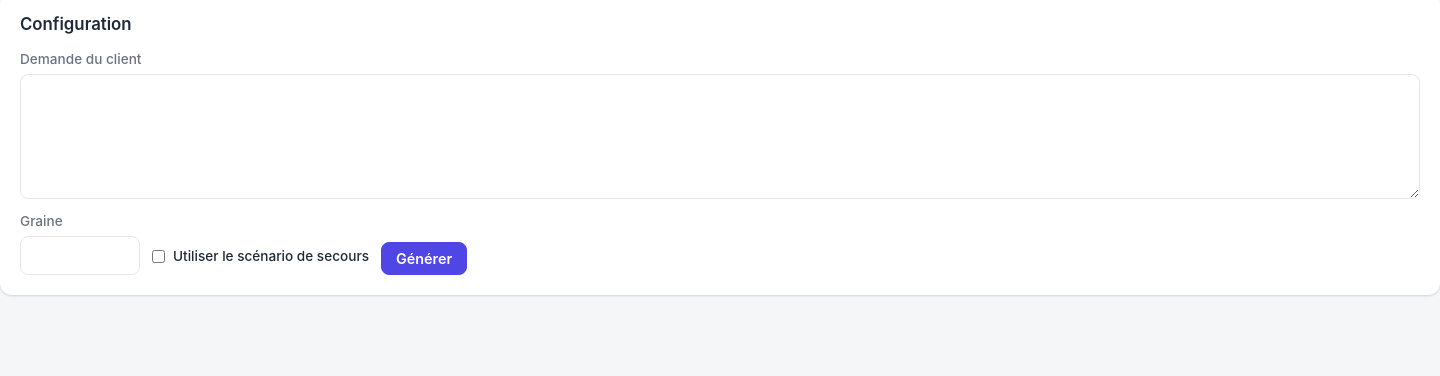
Scenario: SetupPanel › checks "Utiliser le scénario de secours" after a 400 and shows the detail
Check: the checkbox labelled "Utiliser le scénario de secours" is not checked, box [152,250,165,263]
Click the button "Générer".
click(424, 259)  # box [381,242,467,276]
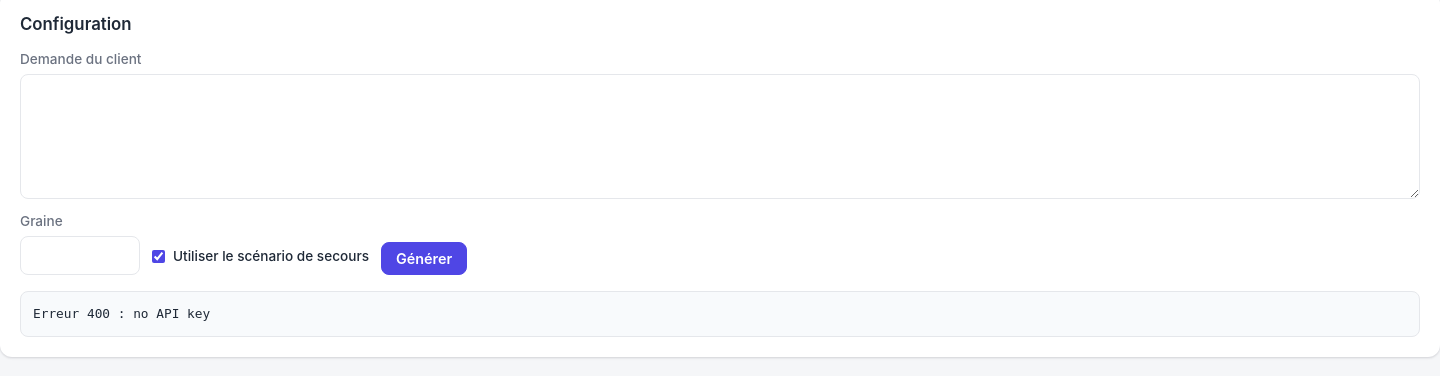
Check: the text "Erreur 400 : no API key" is shown, box [20,291,1420,337]
Check: the checkbox labelled "Utiliser le scénario de secours" is checked, box [152,250,165,263]
